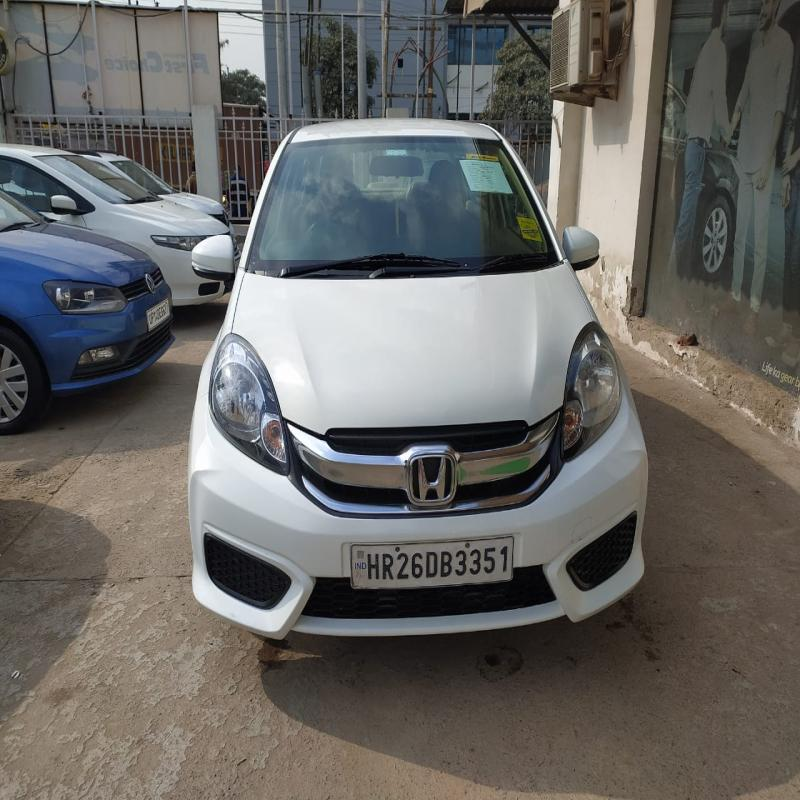car: (208, 96, 652, 617)
